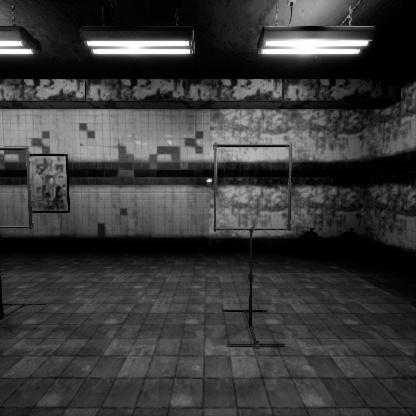gate: (213, 184, 299, 272)
